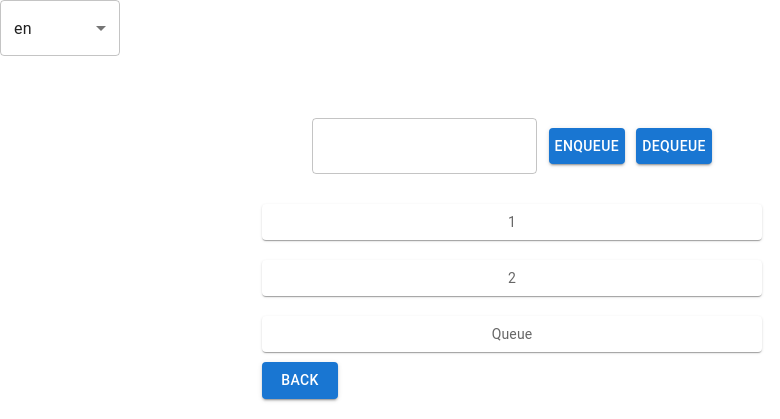
Test: Testing "/queue" route › Should remove last item from list
What coordinates should you click on to do the following:
click the button with test id "data-list-remove-button"
I would click on:
 (674, 147)
Its box is [636,128,712,165].
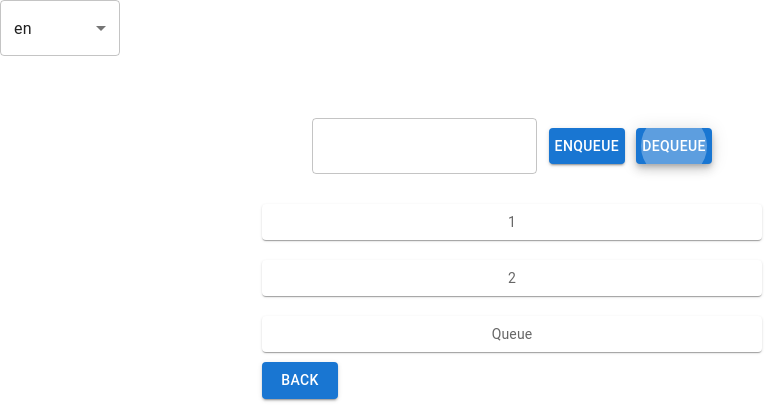
What coordinates should you click on to do the following:
click the button with test id "data-list-add-button"
I would click on:
 (587, 147)
Its box is [549,128,625,165].
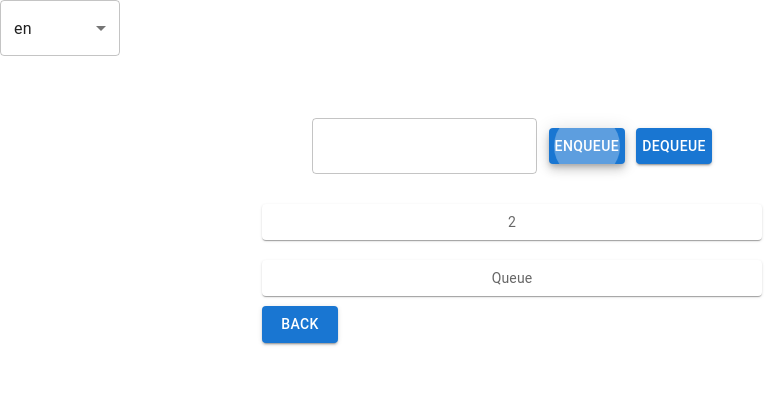
Result: the number of elements with test id "data-list-item" is 2 at [262,204,762,240]; [262,260,762,296]
